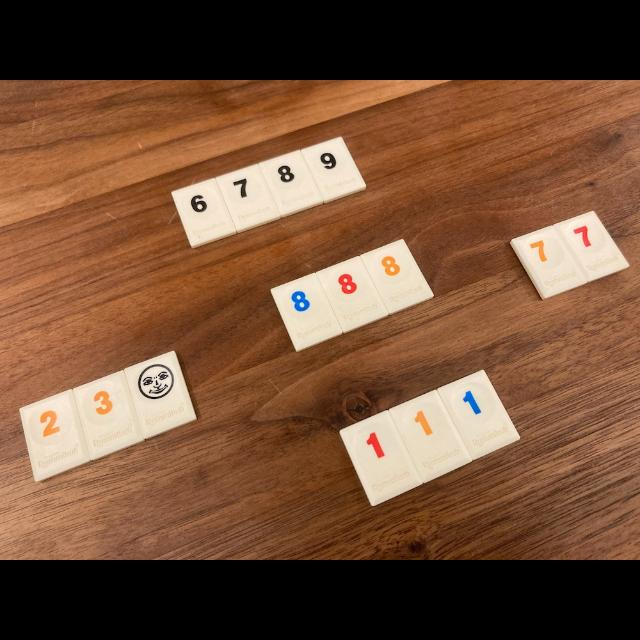black_6: (171, 179, 236, 248)
black_7: (217, 165, 281, 232)
black_8: (260, 150, 322, 218)
black_9: (301, 138, 366, 202)
blue_1: (439, 371, 520, 460)
blue_8: (271, 274, 342, 351)
joker: (125, 351, 196, 439)
orange_1: (390, 391, 471, 482)
orange_2: (21, 390, 90, 481)
orange_3: (74, 371, 144, 460)
orange_7: (510, 226, 586, 300)
orange_8: (360, 240, 434, 315)
red_1: (340, 411, 422, 506)
red_7: (555, 211, 629, 282)
red_8: (316, 256, 389, 332)
